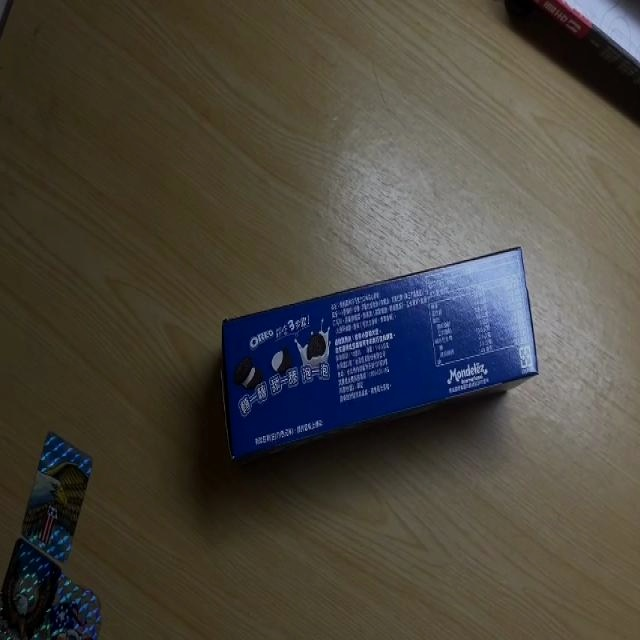Oreo: (224, 246, 542, 464)
